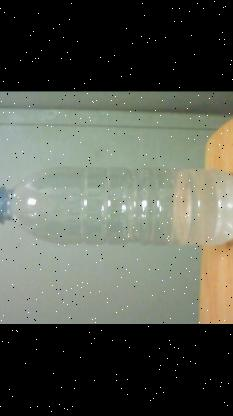Plastic Bottle: (0, 158, 233, 255)
